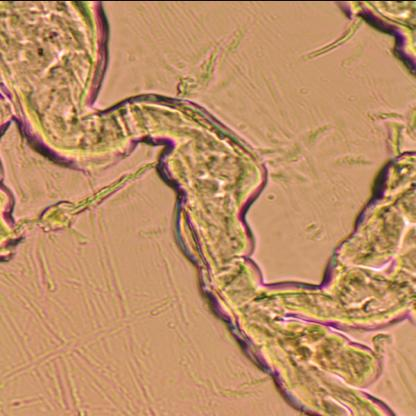Normal: (176, 105, 416, 416), (0, 0, 134, 185)
